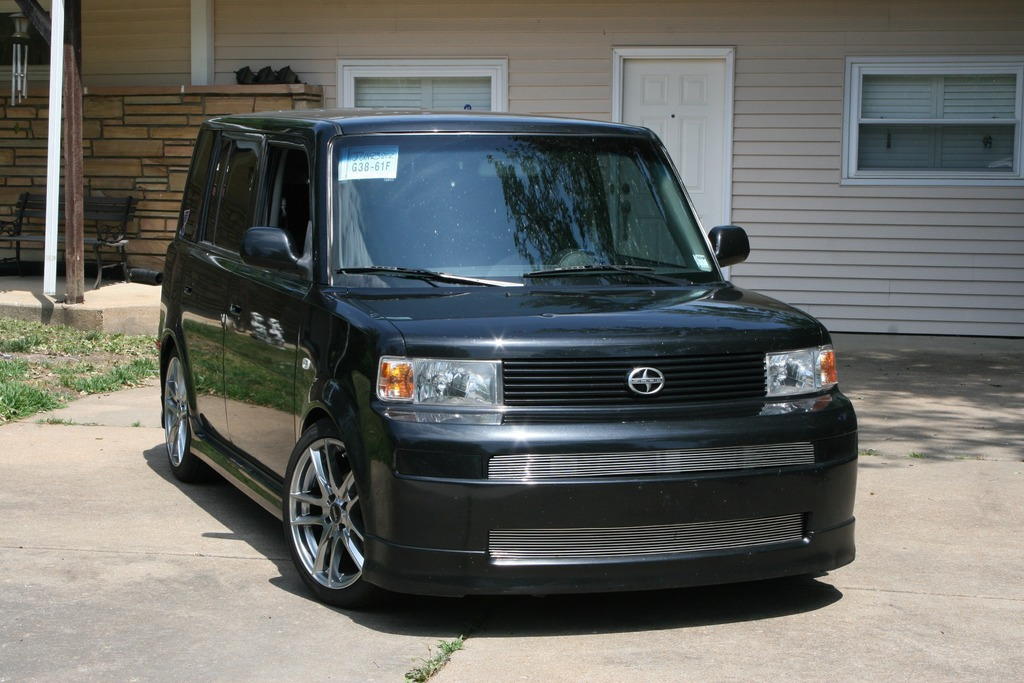Car: (154, 107, 859, 607)
